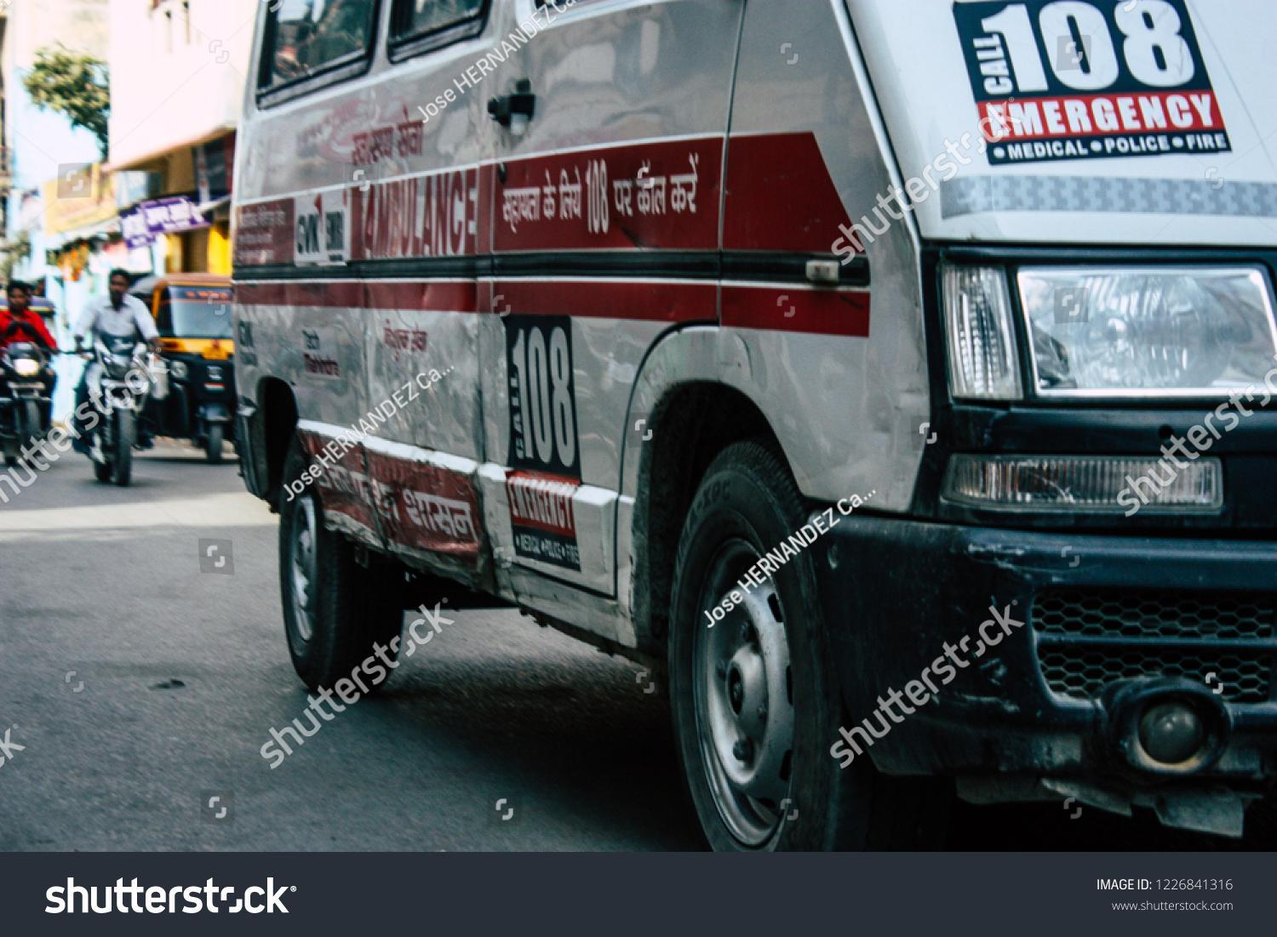Ambulance: (970, 0, 1212, 109)
